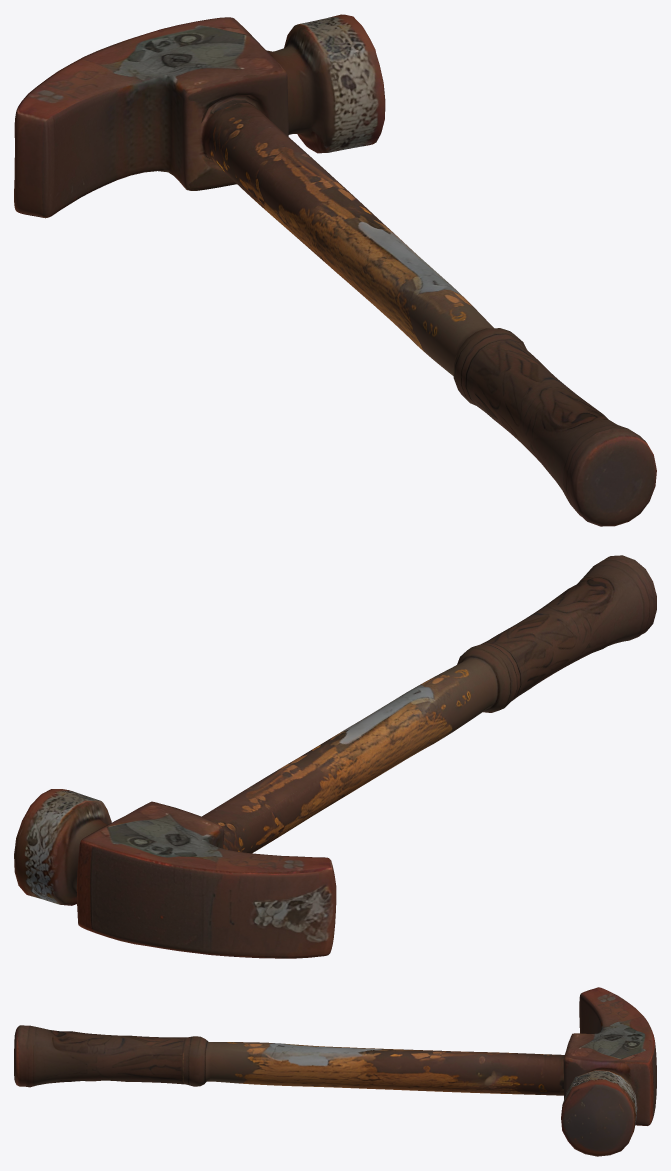
The model's file is oldHammerTripo.fbx.
3 renders of one model, top to bottom at view 1: azimuth 30°, elevation 25°; view 2: azimuth 150°, elevation 25°; view 3: azimuth 270°, elevation 25°, orthographic. The views are drawn at different scales.
Visible parts, largest first — view 1: tripo_node_b46c60fe; view 2: tripo_node_b46c60fe; view 3: tripo_node_b46c60fe.
Boxes of the visible parts, x1,y1,x2,y2 form: tripo_node_b46c60fe: (14,14,656,526); tripo_node_b46c60fe: (14,555,656,958); tripo_node_b46c60fe: (14,987,656,1156).
Size of the model in its own units: 39.02 by 12.59 by 99.98.
Materials: 1 (1 with a texture image).
